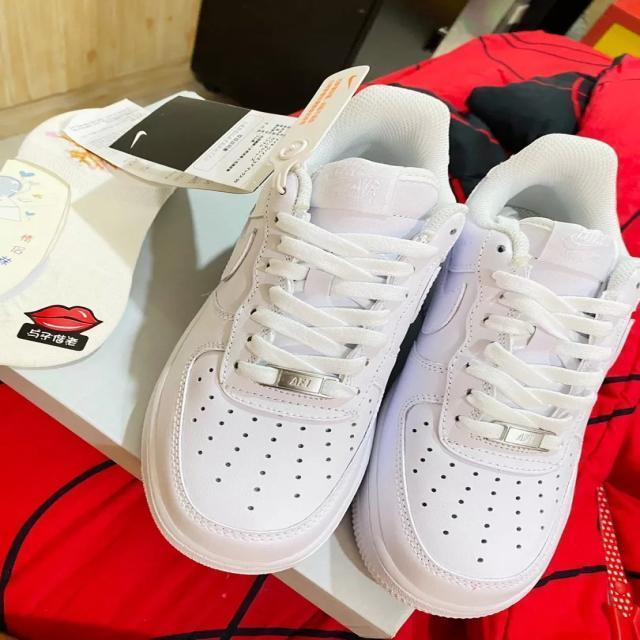nike original air force: (135, 82, 455, 576), (350, 132, 640, 620)
